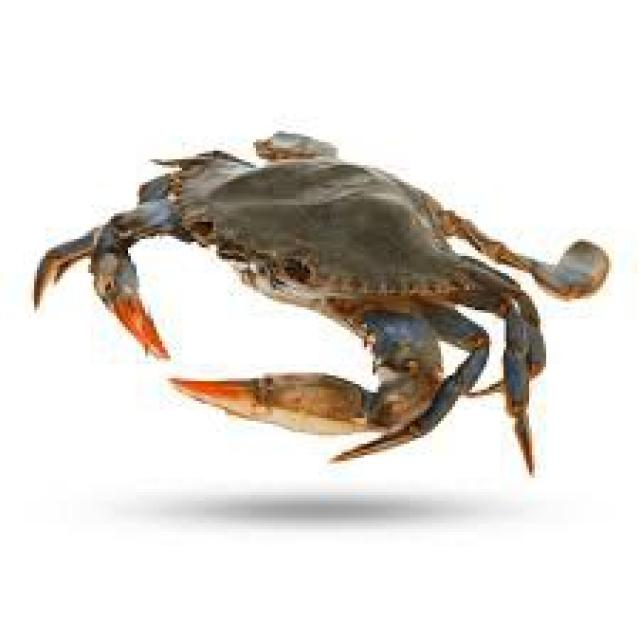crab: (134, 120, 514, 446)
